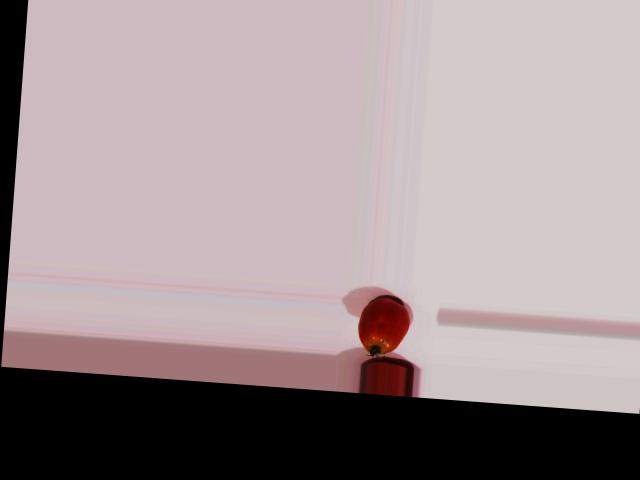tomato: (357, 296, 411, 356)
